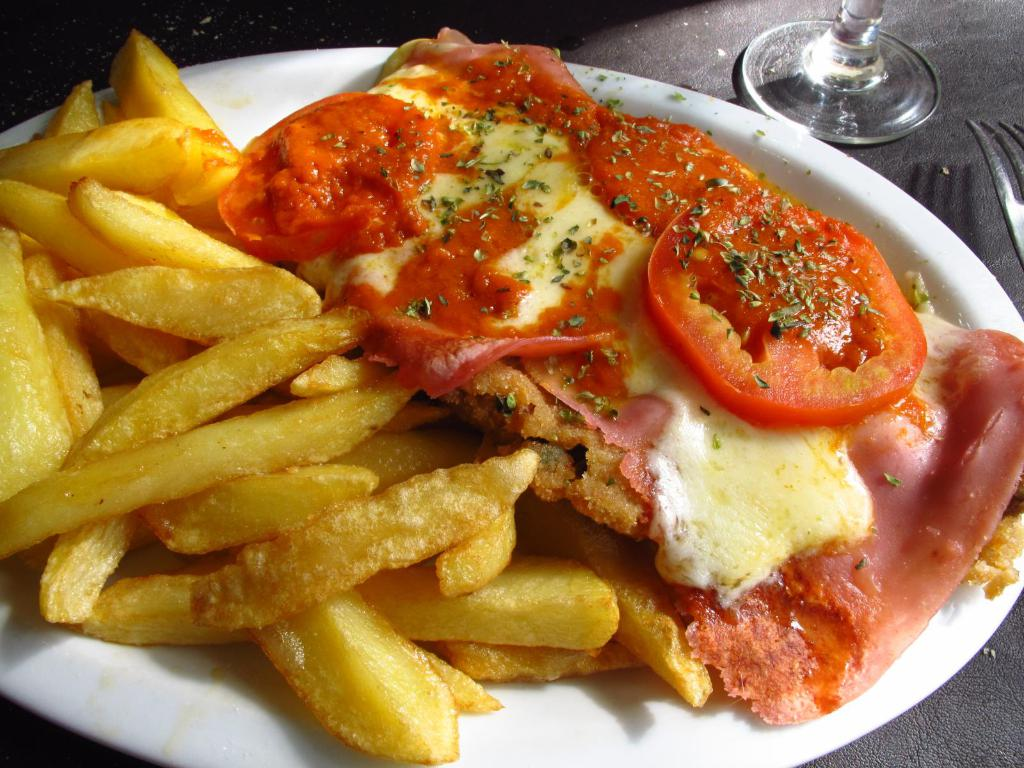French fries: (72, 435, 547, 641), (0, 353, 435, 549), (66, 298, 386, 464), (508, 481, 716, 711), (246, 568, 458, 767), (319, 546, 625, 660), (132, 450, 396, 560), (0, 224, 88, 506), (0, 107, 245, 205), (54, 261, 316, 345), (66, 172, 283, 273), (8, 240, 99, 443), (104, 36, 243, 145), (428, 627, 647, 692), (41, 499, 142, 627), (0, 181, 104, 266), (44, 85, 102, 147)
